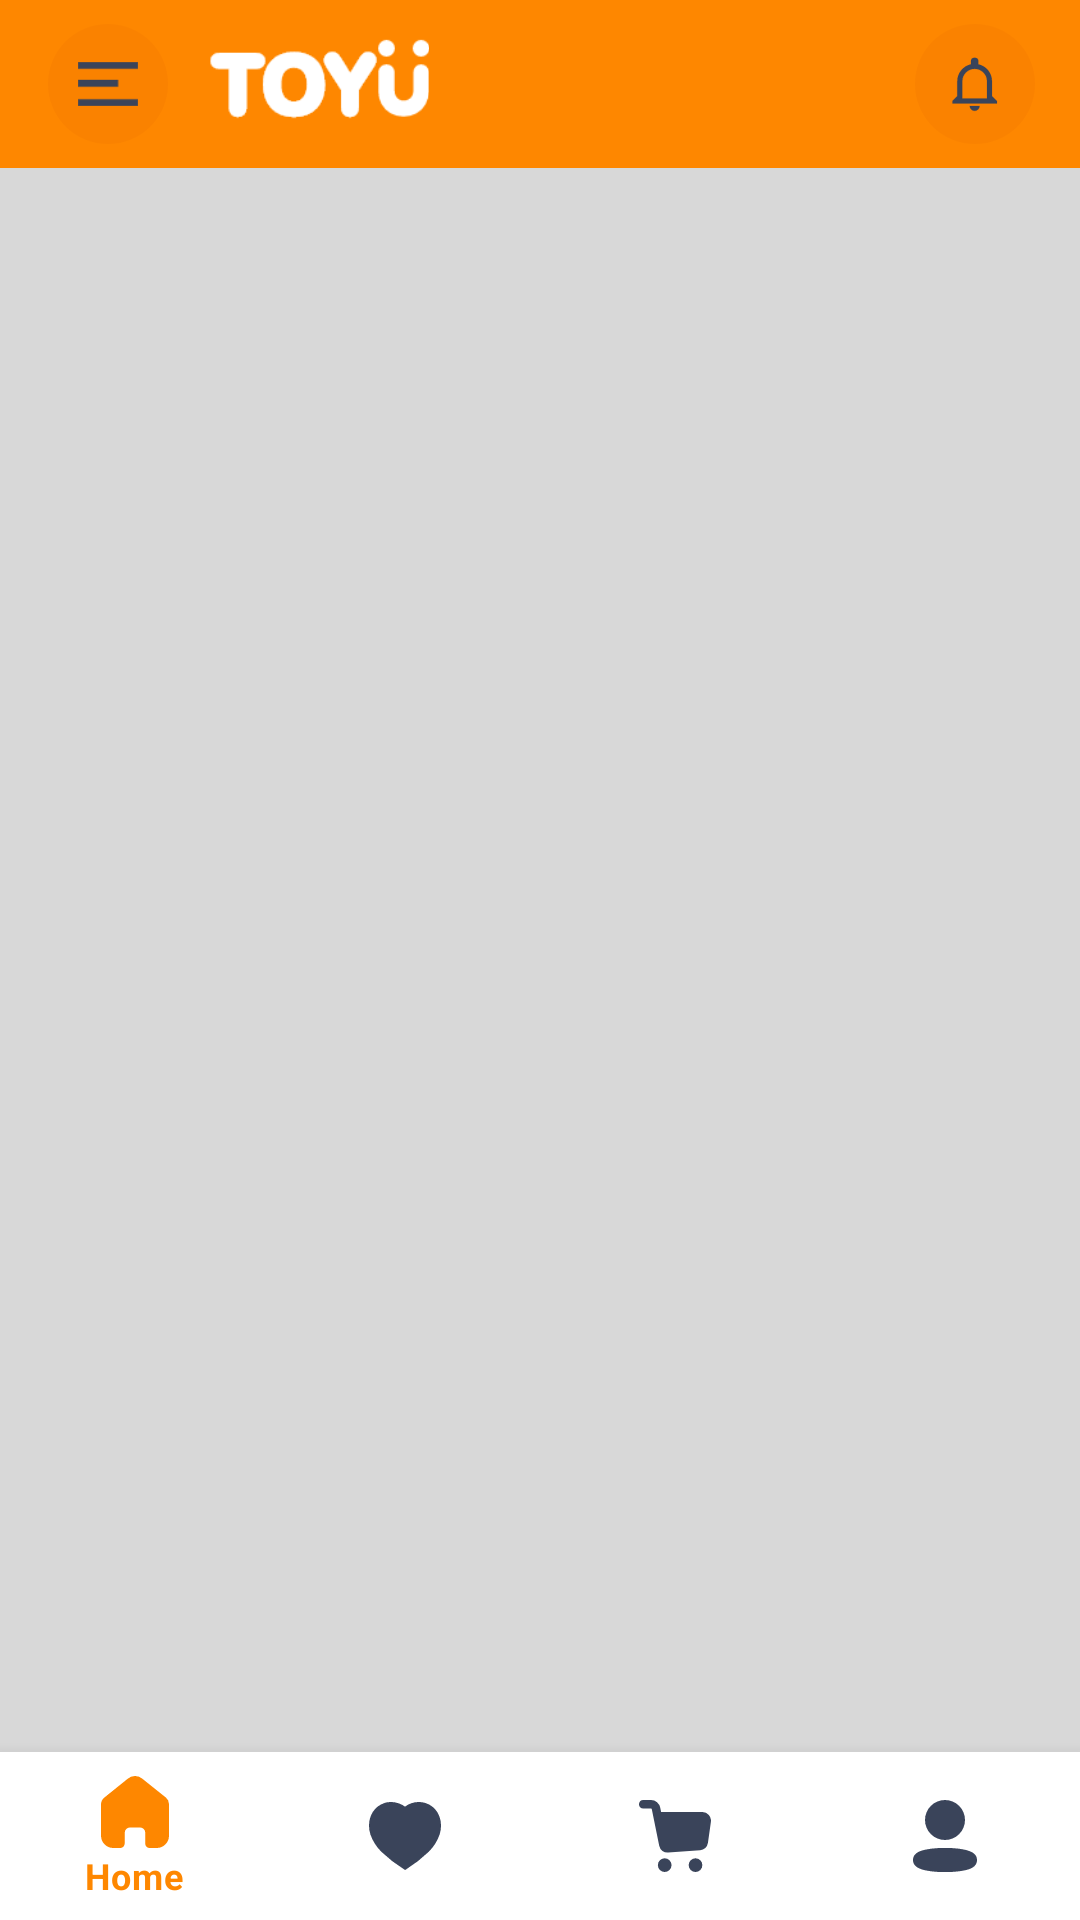

Screen size 1080×1920. Icon name, then its center in pixels as (x=x, y=y):
drawer: (x=108, y=84)
noti: (x=974, y=84)
